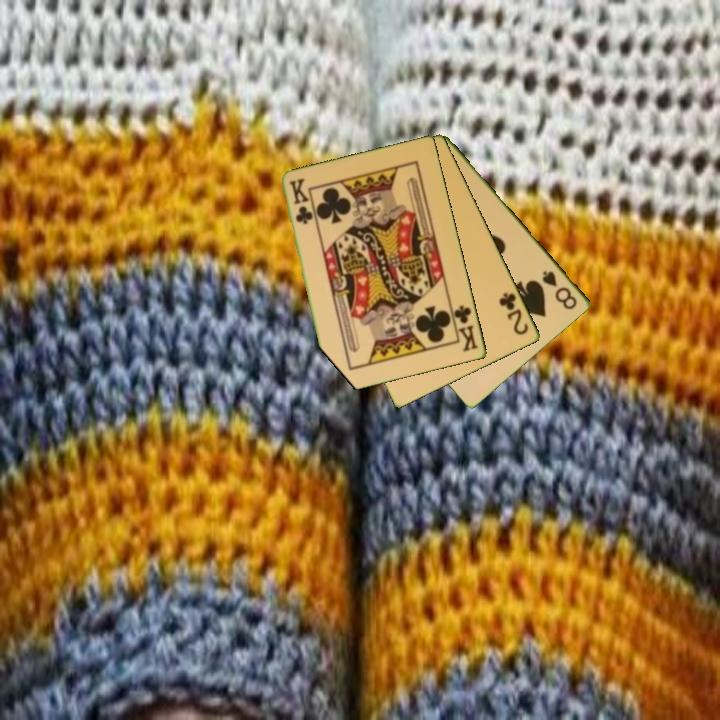2c: (496, 289, 532, 338)
8s: (539, 267, 581, 313)
Kc: (448, 301, 481, 355), (286, 175, 314, 228)
